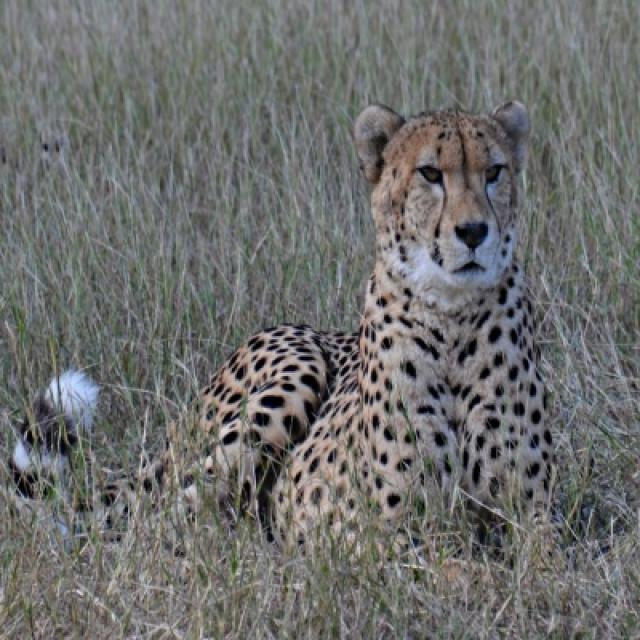Cheetah: (10, 102, 558, 541)
